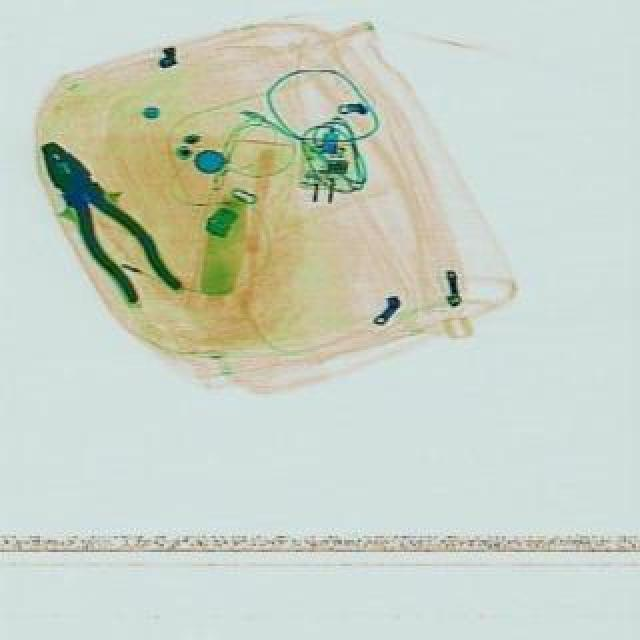wrench: (24, 130, 188, 318)
